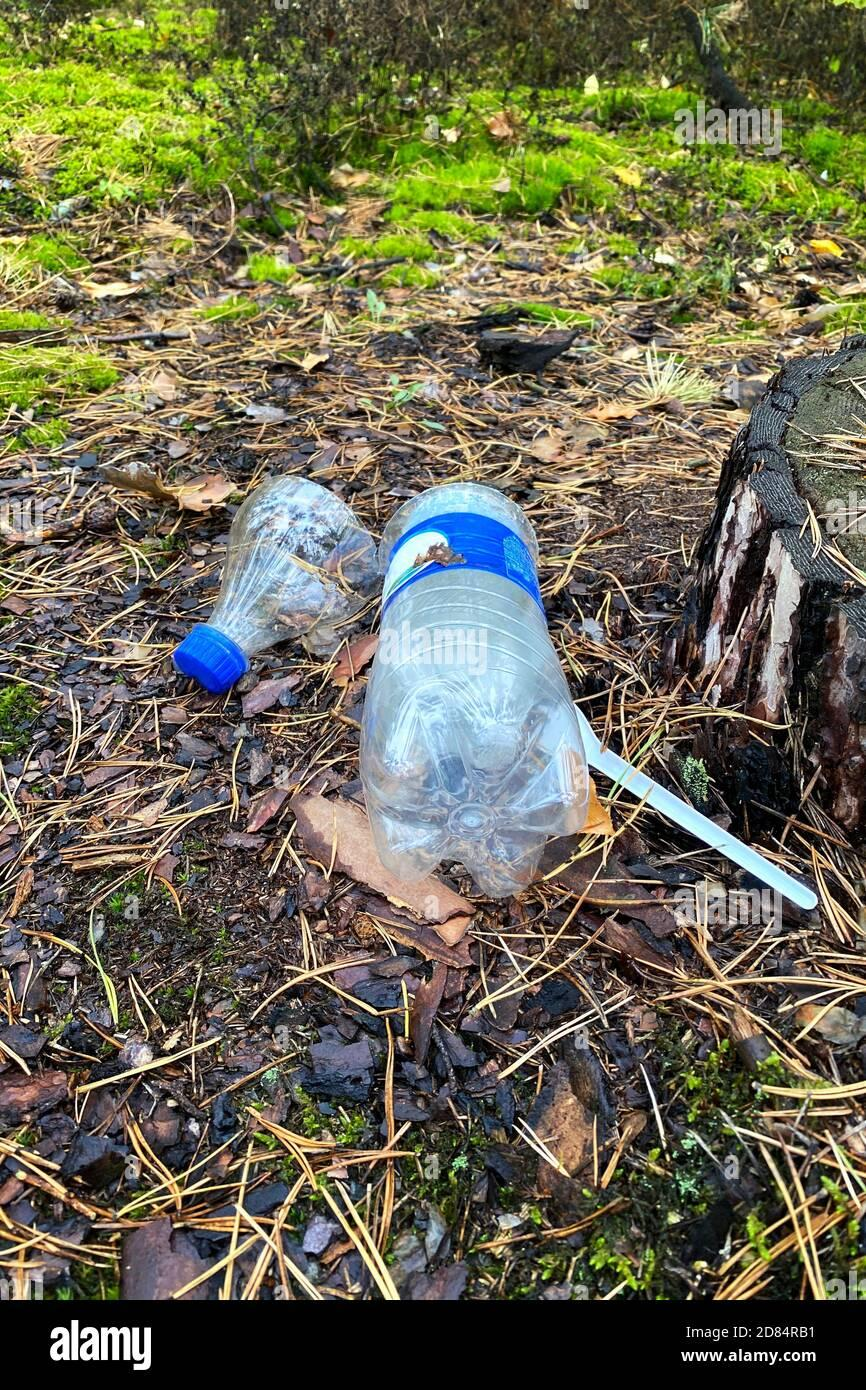bottle: (375, 457, 627, 933), (161, 417, 374, 720)
